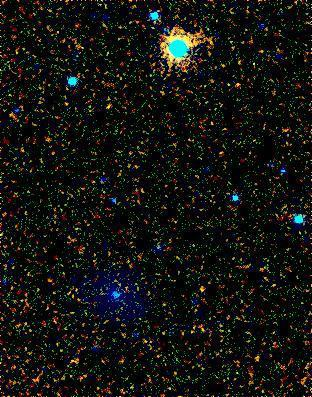star: (186, 274, 216, 304)
